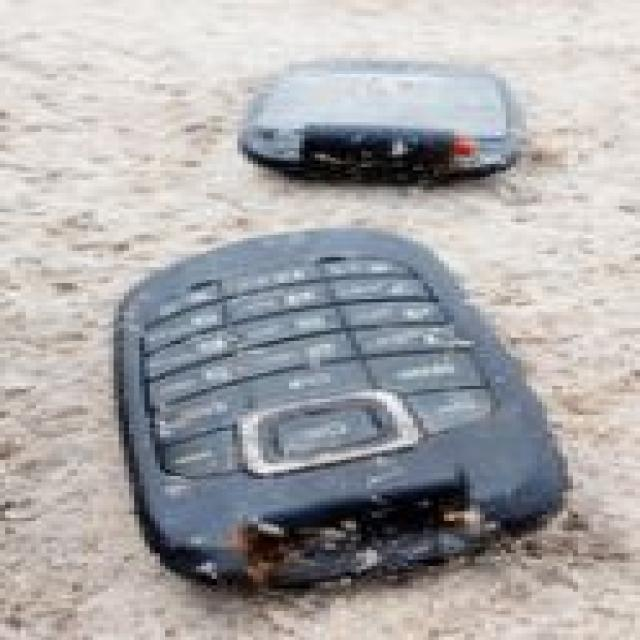electronic: (108, 222, 573, 592)
